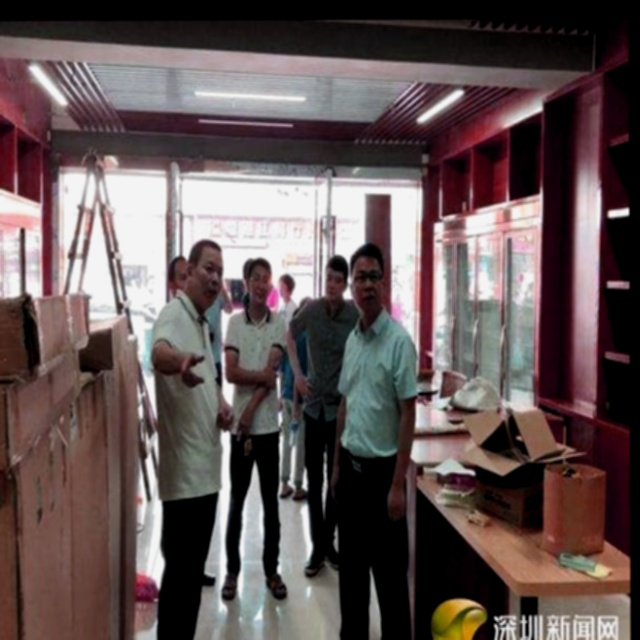Sin_Casco_Mascarrilla: (349, 244, 387, 316), (188, 240, 225, 307)
